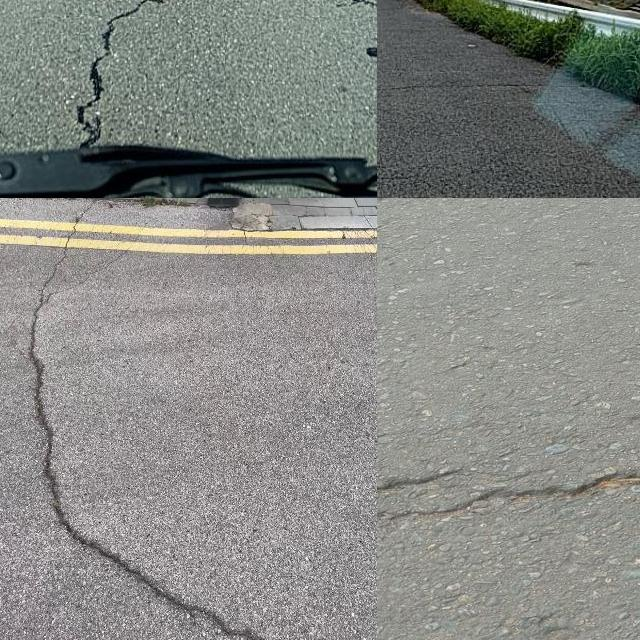Melintang: (0, 220, 377, 548), (377, 444, 640, 528)
Memanjang: (51, 0, 155, 158)
